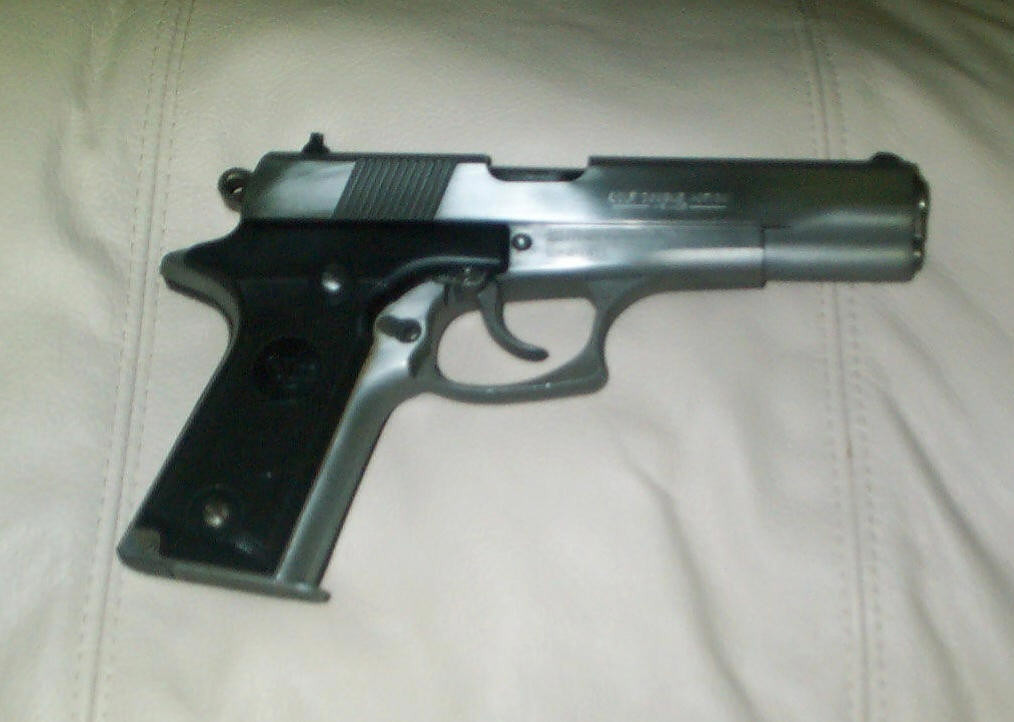gun: (101, 124, 950, 656)
